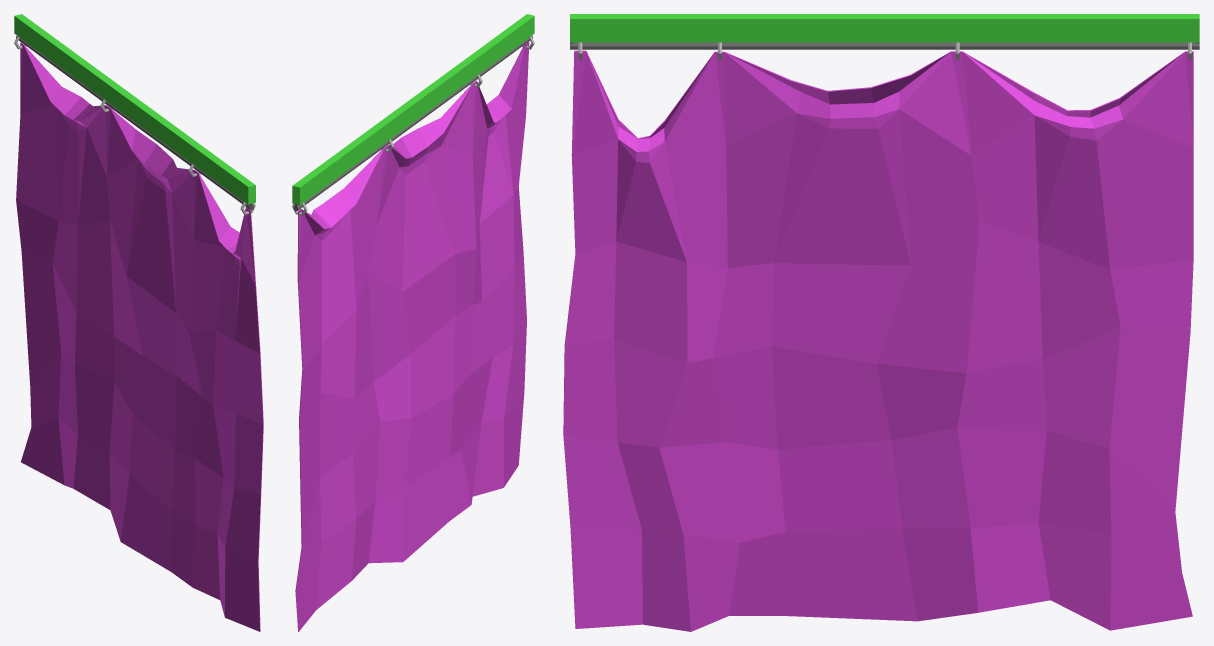
The model's file is Curtain_01_B.fbx.
3 renders of one model, left to right at view 1: azimuth 30°, elevation 25°; view 2: azimuth 150°, elevation 25°; view 3: azimuth 270°, elevation 25°, orthographic. The views are drawn at different scales.
Visible parts, largest first — view 1: Curtain_01_B; view 2: Curtain_01_B; view 3: Curtain_01_B.
Boxes of the visible parts, x1,y1,x2,y2 form: Curtain_01_B: [14, 14, 263, 631]; Curtain_01_B: [292, 14, 534, 631]; Curtain_01_B: [563, 14, 1199, 631].
Size of the model in its own units: 34.93 by 487 by 462.
